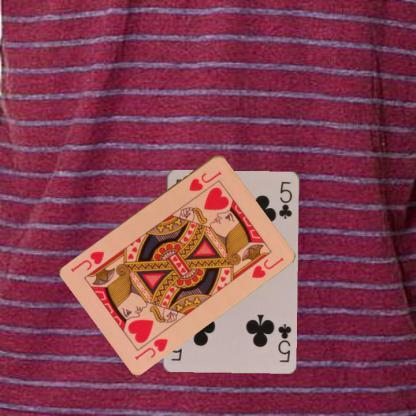5c: (275, 320, 292, 364)
Jh: (132, 335, 170, 361), (186, 168, 223, 192)
